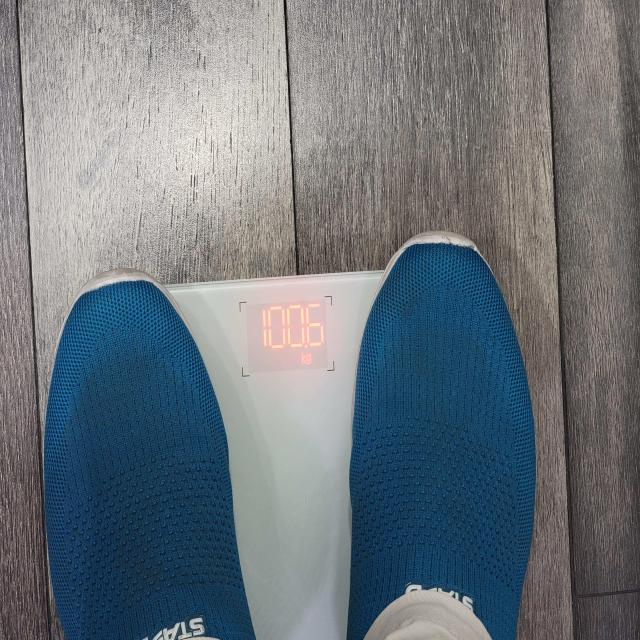ws: (161, 273, 387, 640)
